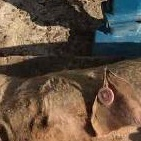text: (90, 80, 121, 111)
